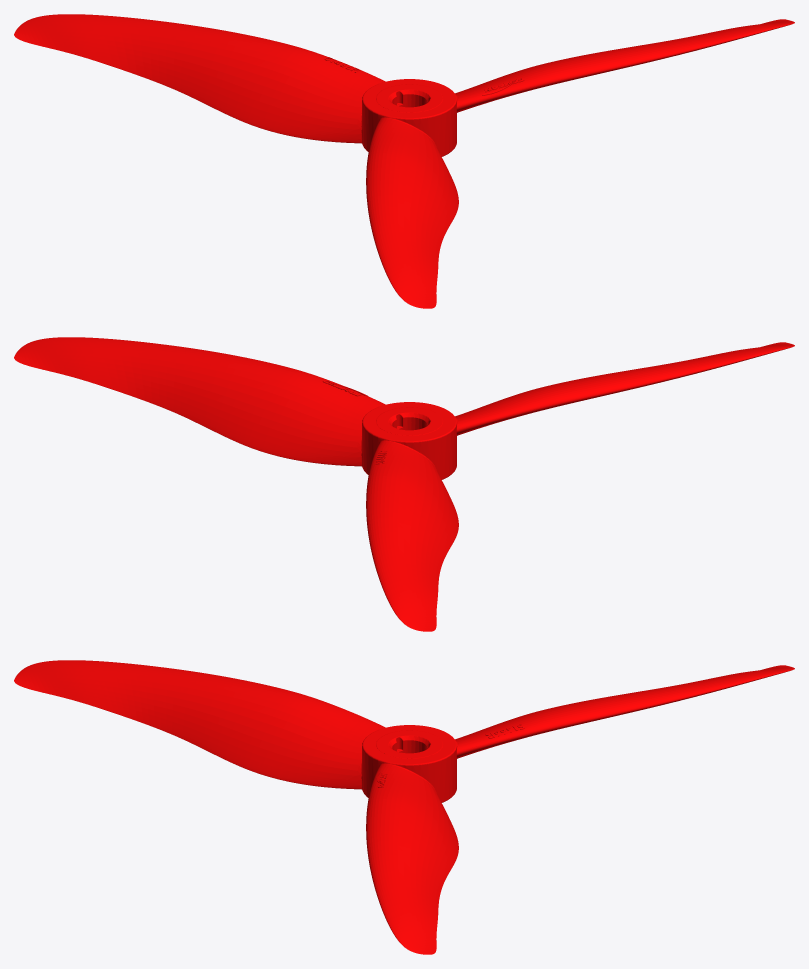
File: prop.dae
The picture shows the model from 3 angles, top to bottom: view 1: azimuth 30°, elevation 25°; view 2: azimuth 150°, elevation 25°; view 3: azimuth 270°, elevation 25°; orthographic projection.
Visible parts, largest first — view 1: prop; view 2: prop; view 3: prop.
Boxes of the visible parts, x1=… form: prop: x1=14, y1=14, x2=794, y2=308; prop: x1=14, y1=337, x2=794, y2=631; prop: x1=14, y1=660, x2=794, y2=954.
Bounding box in the file's own units: 0.0985 × 0.1117 × 0.00823.
